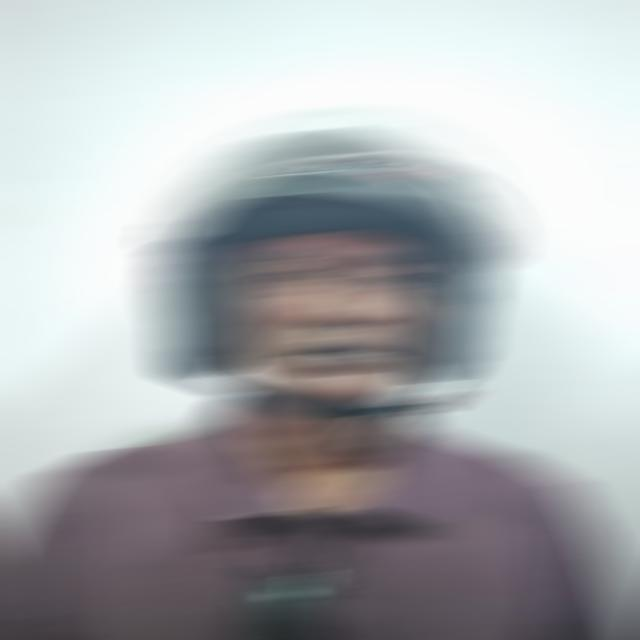With Helmet: (144, 106, 518, 420)
